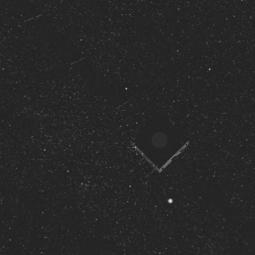smart_1: (110, 80, 228, 196)
